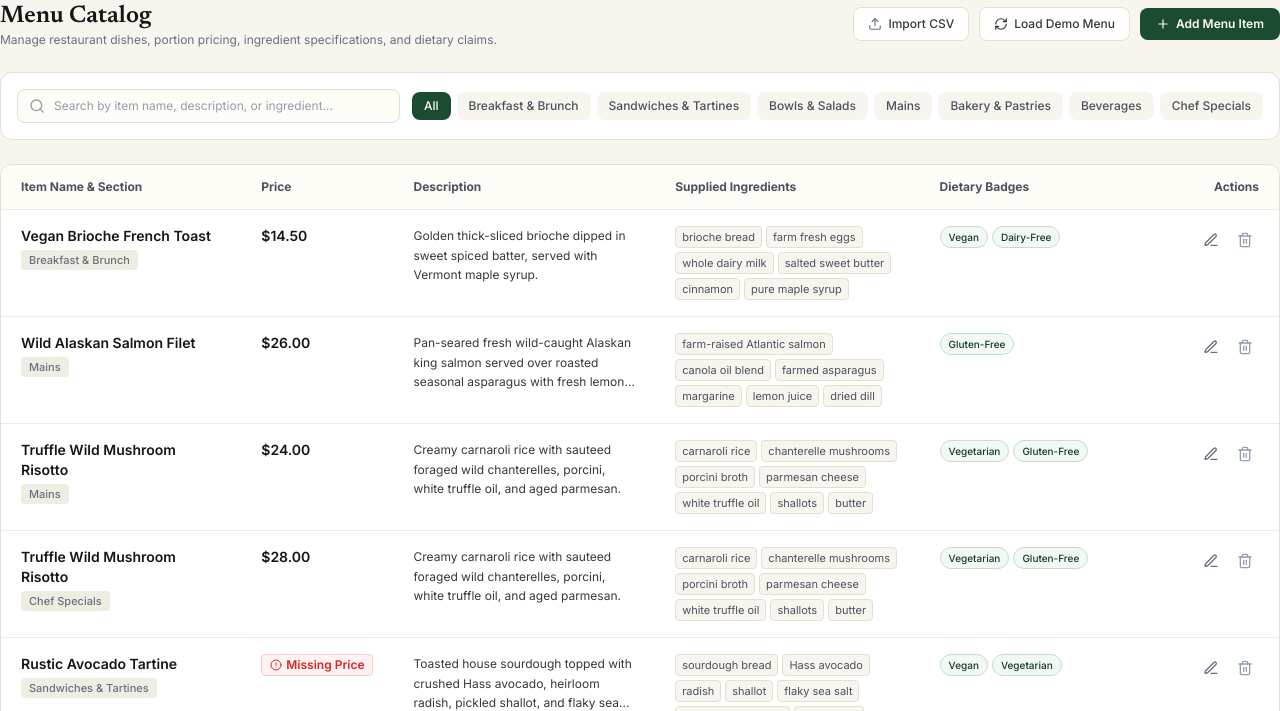
Scenario: MenuManager Component › filters menu items by search query and category
The image size is (1280, 711).
# Filter by search
Type "Croissant" into the field with placeholder "Search by item name, description, or ingredient..." at (208, 106), box [17,89,400,123]
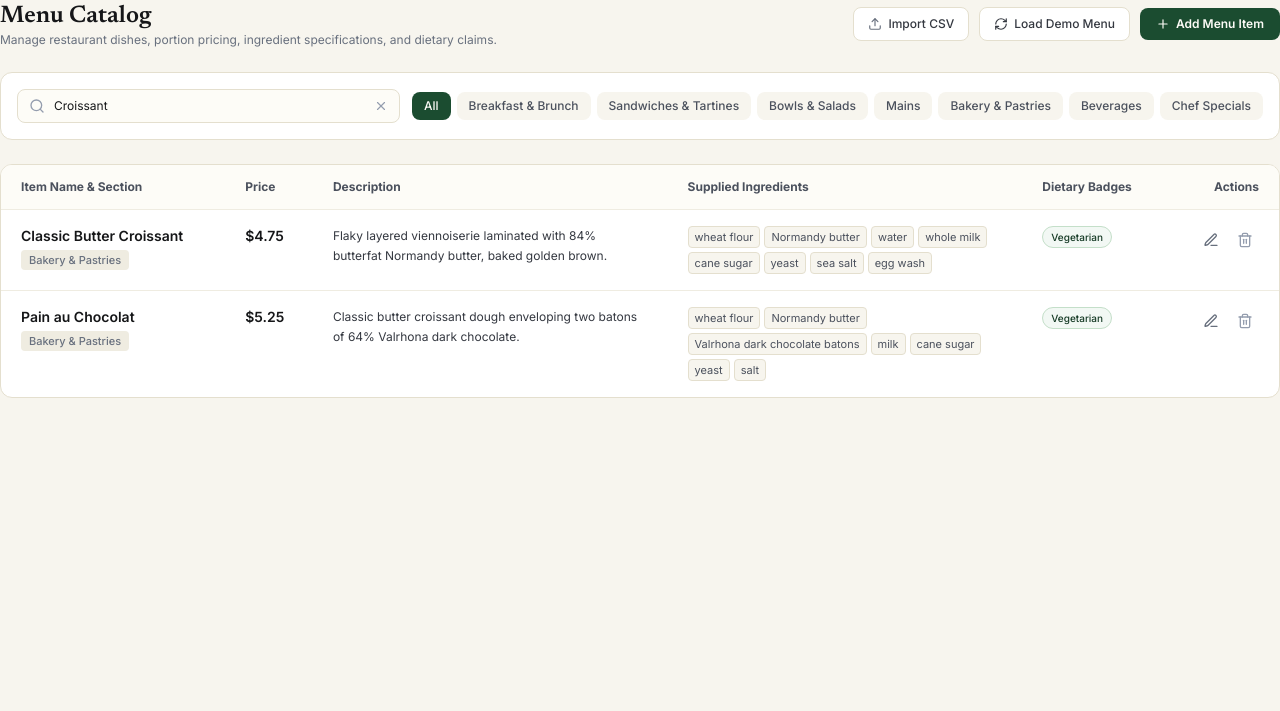
Expected: the text "Classic Butter Croissant" is shown, [21,226,205,246]
Result: the text "Wild Alaskan Salmon Filet" is gone
